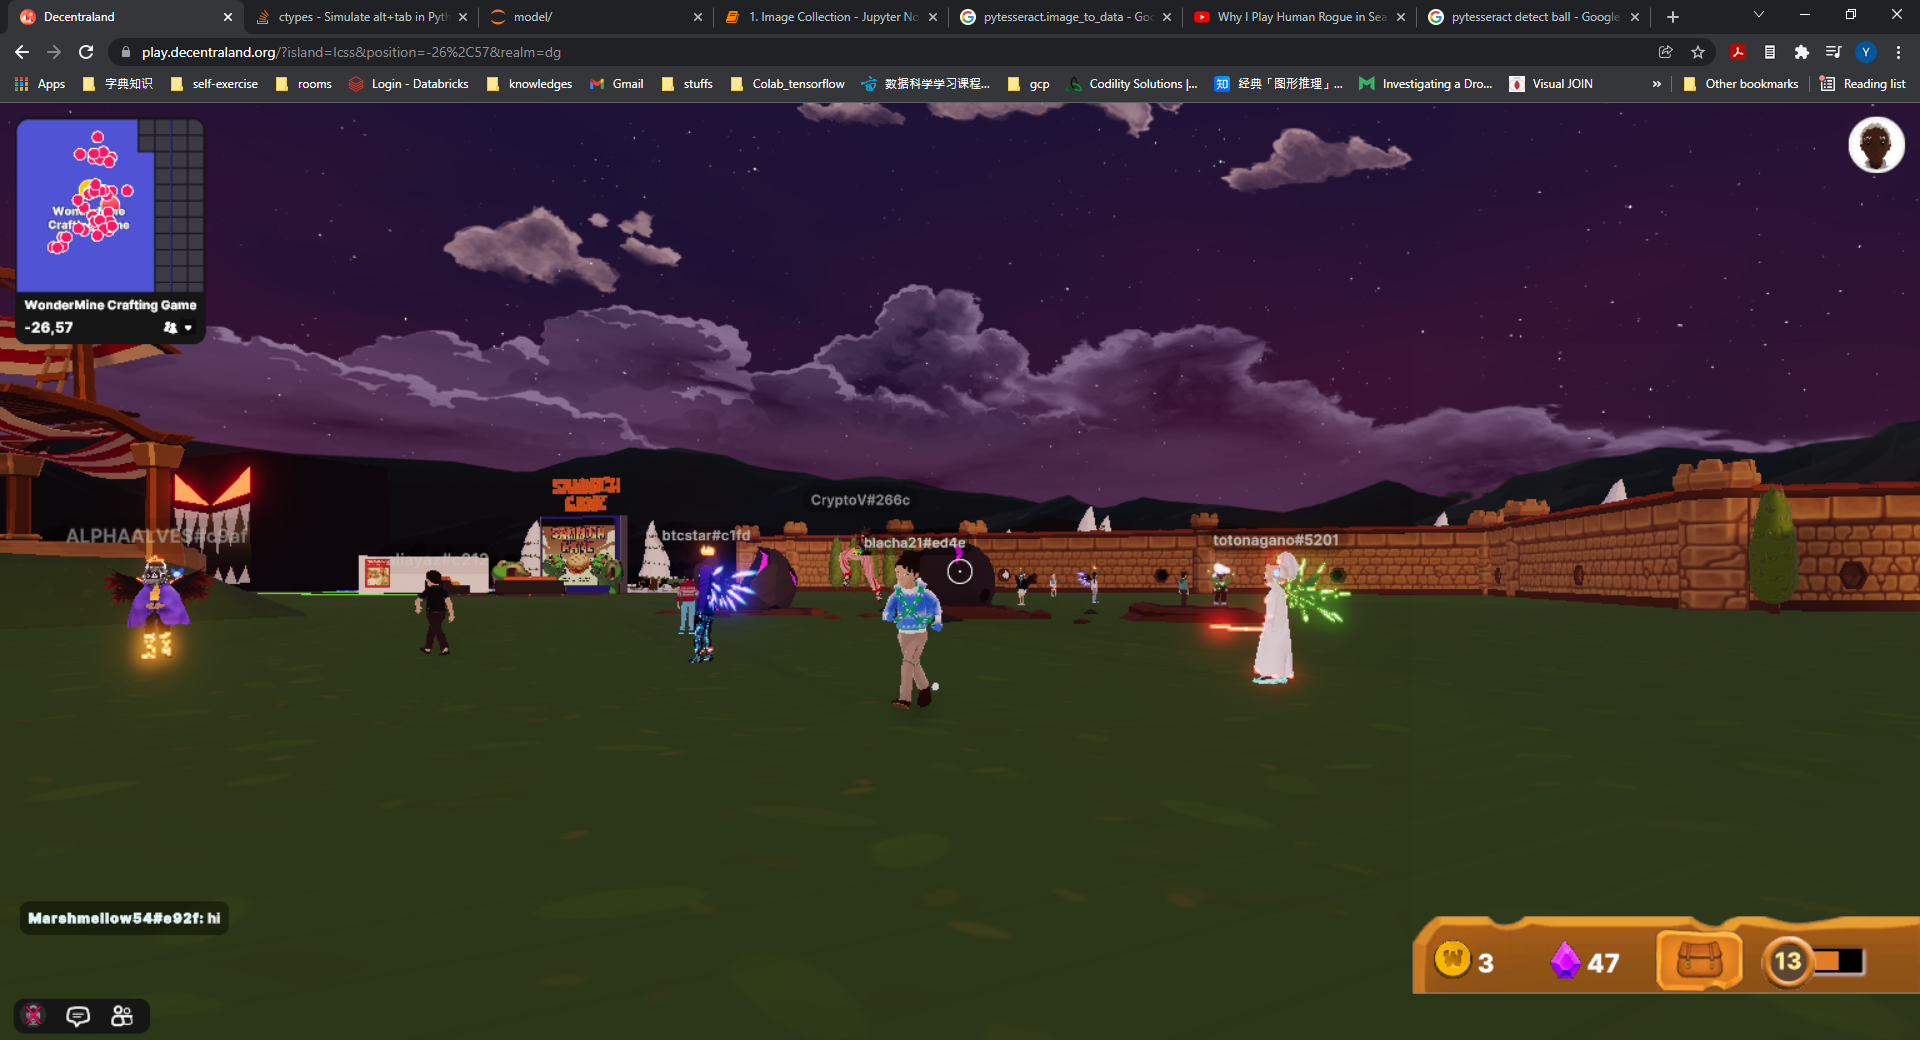black_ball: (899, 525, 1009, 634)
